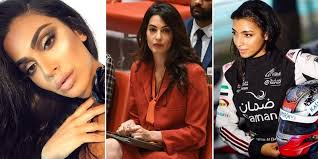middle_eastern_Female: (1, 1, 93, 101), (138, 6, 176, 54)
